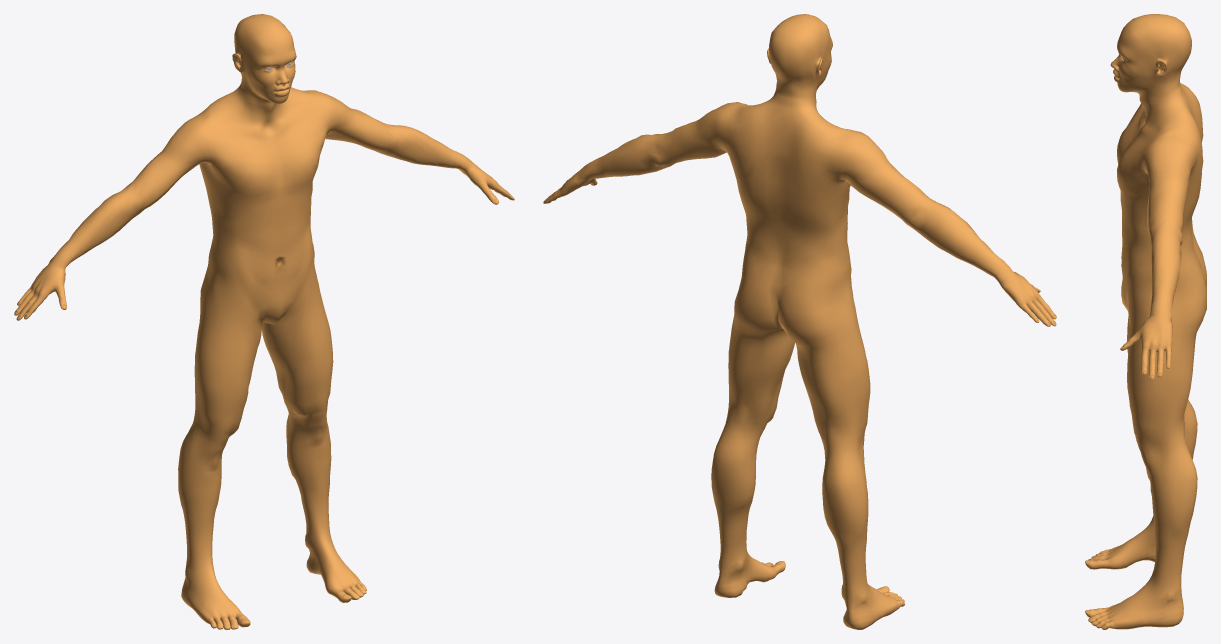
The model's file is BaseHuman.obj.
3 renders of one model, left to right at view 1: azimuth 30°, elevation 25°; view 2: azimuth 150°, elevation 25°; view 3: azimuth 270°, elevation 25°, orthographic. The views are drawn at different scales.
Visible parts, largest first — view 1: human_male_base03; view 2: human_male_base03; view 3: human_male_base03.
Part boxes in pixels (x1,y1,x2,y2): human_male_base03: (14,14,514,629); human_male_base03: (543,14,1056,629); human_male_base03: (1085,14,1206,629).
Size of the model in its own units: 1.6 by 1.76 by 0.3381.
